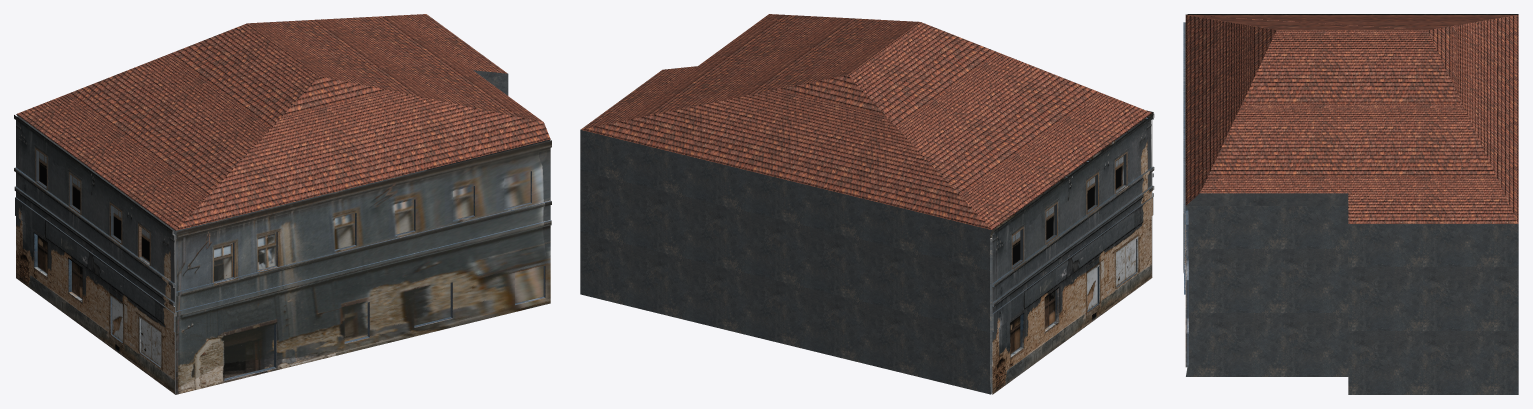
3 renders of one model, left to right at view 1: azimuth 30°, elevation 25°; view 2: azimuth 150°, elevation 25°; view 3: azimuth 270°, elevation 25°, orthographic. The views are drawn at different scales.
Visible parts, largest first — view 1: 35_roof_photo_orientation_0_0, 35_roof_photo_orientation_0_2, 35_roof_photo_orientation_0_1, B_opening_9, B_wall_14_16, 35_roof_photo_orientation_1_1, B_wall_14_6, B_wall_14_20, 35_000, B_opening_7, B_wall_20_16, B_wall_7_16 (+45 smaller); view 2: 35_000, 35_roof_photo_orientation_0_0, 35_roof_photo_orientation_0_3, 35_roof_photo_orientation_0_1, 35_roof_photo_orientation_1_1, A_wall_8_4, A_wall_8_16, A_wall_4_4, A_opening_7, A_wall_0_4, A_wall_4_16, A_wall_8_11 (+3 smaller); view 3: 35_000, 35_roof_photo_orientation_0_1, 35_roof_photo_orientation_0_2, 35_roof_photo_orientation_0_3, 35_roof_photo_orientation_1_1, 35_roof_photo_orientation_0_0, 35_rear_step_attic_hypothesis_0_1, B_cornice_return_1.
Part boxes in pixels (bbox=[...]): 35_roof_photo_orientation_0_0: bbox=[16, 23, 319, 230]; 35_roof_photo_orientation_0_2: bbox=[176, 76, 550, 230]; 35_roof_photo_orientation_0_1: bbox=[247, 15, 542, 121]; B_opening_9: bbox=[224, 325, 273, 378]; B_wall_14_16: bbox=[278, 278, 334, 323]; 35_roof_photo_orientation_1_1: bbox=[398, 14, 507, 73]; B_wall_14_6: bbox=[278, 220, 334, 264]; B_wall_14_20: bbox=[278, 317, 334, 359]; 35_000: bbox=[16, 74, 550, 331]; B_opening_7: bbox=[414, 283, 450, 325]; B_wall_20_16: bbox=[175, 307, 213, 348]; B_wall_7_16: bbox=[415, 249, 452, 289]; 35_000: bbox=[580, 130, 994, 394]; 35_roof_photo_orientation_0_0: bbox=[848, 22, 1151, 229]; 35_roof_photo_orientation_0_3: bbox=[616, 75, 991, 229]; 35_roof_photo_orientation_0_1: bbox=[623, 14, 919, 120]; 35_roof_photo_orientation_1_1: bbox=[581, 66, 696, 129]; A_wall_8_4: bbox=[1059, 183, 1087, 233]; A_wall_8_16: bbox=[1059, 275, 1087, 321]; A_wall_4_4: bbox=[1023, 213, 1044, 259]; A_opening_7: bbox=[1116, 239, 1135, 285]; A_wall_0_4: bbox=[992, 239, 1010, 282]; A_wall_4_16: bbox=[1023, 306, 1044, 347]; A_wall_8_11: bbox=[1060, 244, 1088, 282]; 35_000: bbox=[1186, 206, 1518, 394]; 35_roof_photo_orientation_0_1: bbox=[1200, 30, 1503, 193]; 35_roof_photo_orientation_0_2: bbox=[1185, 15, 1276, 205]; 35_roof_photo_orientation_0_3: bbox=[1428, 15, 1518, 205]; 35_roof_photo_orientation_1_1: bbox=[1348, 193, 1518, 223]; 35_roof_photo_orientation_0_0: bbox=[1187, 15, 1517, 30]; 35_rear_step_attic_hypothesis_0_1: bbox=[1200, 193, 1336, 205]; B_cornice_return_1: bbox=[1183, 22, 1185, 213].
Bounding box in the file's own units: 21.04 × 11.75 × 14.2.
Materials: 6 (6 with a texture image).
